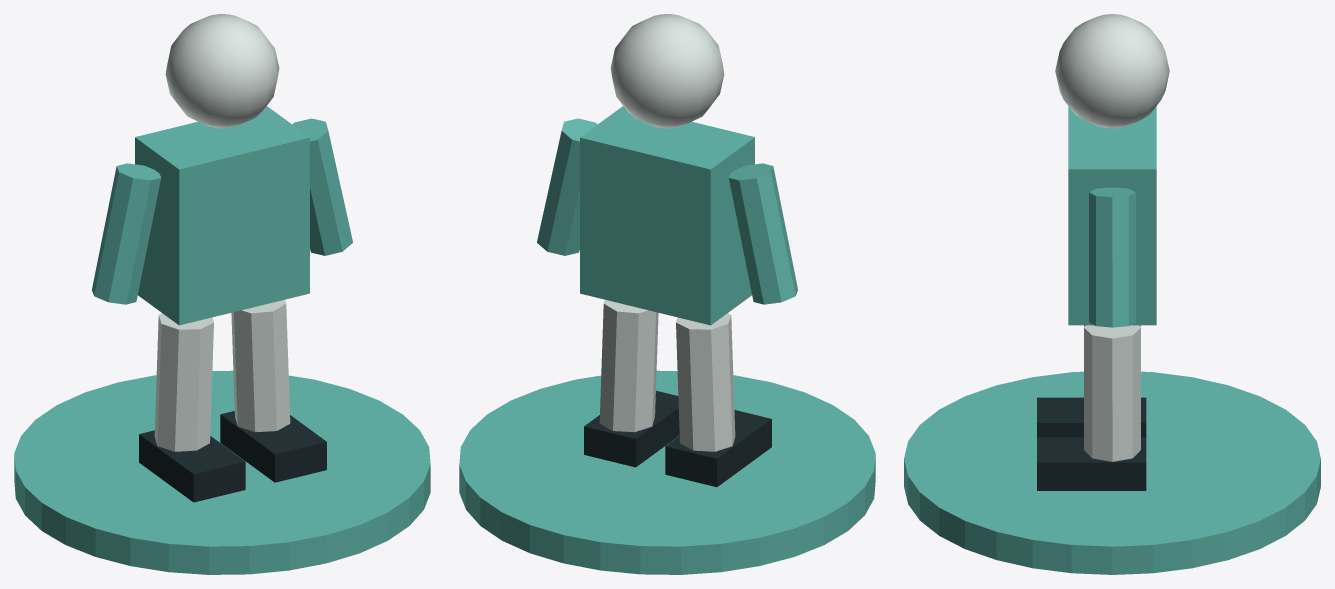
File: player-marker.glb
3 views of the same model, side by side, from view 1: azimuth 30°, elevation 25°; view 2: azimuth 150°, elevation 25°; view 3: azimuth 270°, elevation 25° (orthographic).
Parts seen in each view (by area): view 1: SelectionPlinth, Leg, Boot; view 2: SelectionPlinth, Leg, Boot; view 3: SelectionPlinth, Leg, Boot.
Part boxes in pixels (left/top/right/bottom): SelectionPlinth: left=14, top=106, right=430, bottom=574; Leg: left=154, top=14, right=290, bottom=451; Boot: left=139, top=411, right=326, bottom=502; SelectionPlinth: left=459, top=106, right=875, bottom=574; Leg: left=599, top=14, right=735, bottom=451; Boot: left=584, top=390, right=771, bottom=487; SelectionPlinth: left=904, top=106, right=1320, bottom=574; Leg: left=1055, top=14, right=1169, bottom=461; Boot: left=1037, top=397, right=1146, bottom=490.
Size of the model in its own units: 1.6 by 1.98 by 1.6.
